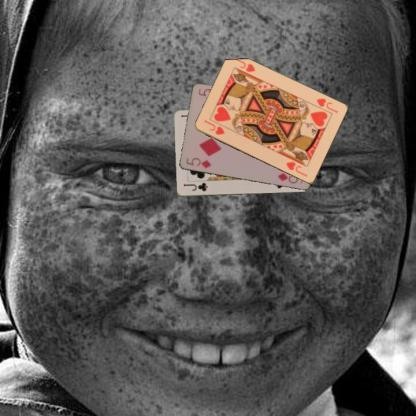5d: (183, 155, 213, 170)
Jc: (180, 180, 209, 192)
Jh: (201, 118, 225, 136), (314, 96, 338, 114)
